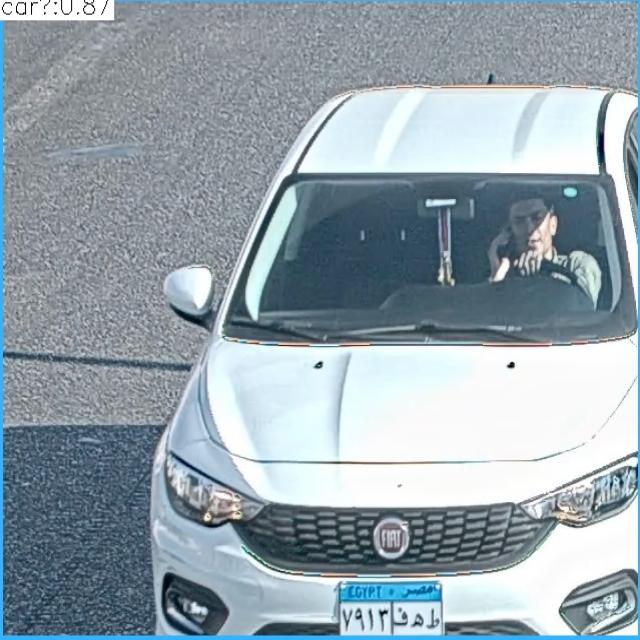windshield: (231, 165, 636, 344)
